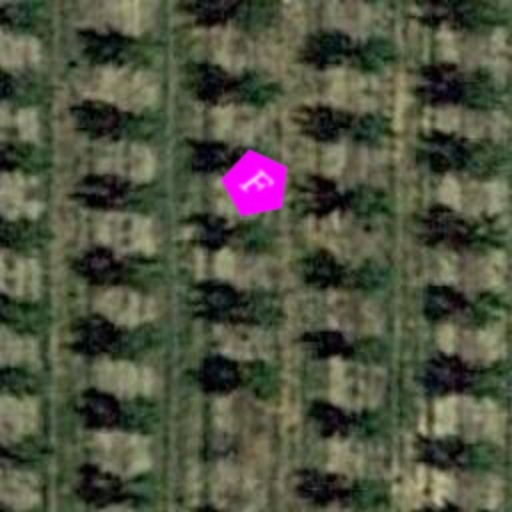pentagon: (204, 132, 308, 236)
